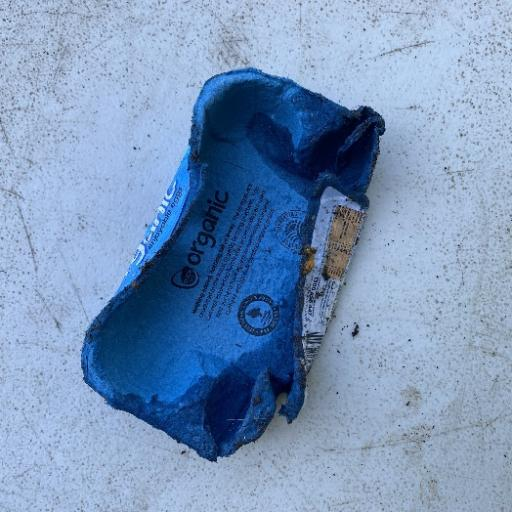Cardboard: (78, 66, 387, 463)
